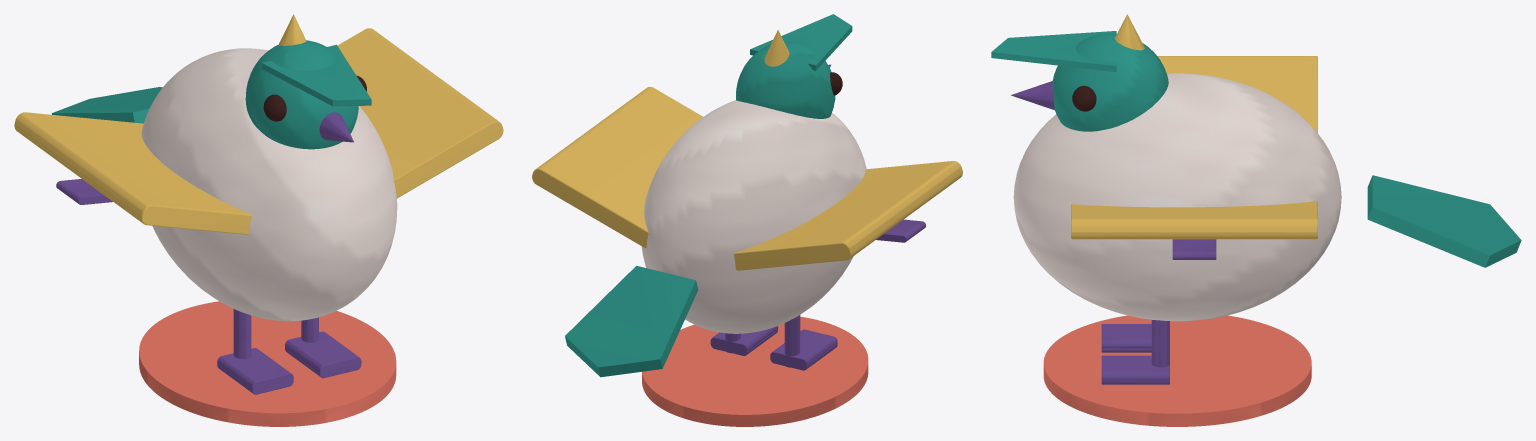
Rendered from 0150_恐龙图鉴_鹦鹉嘴龙.glb.
3 renders of one model, left to right at view 1: azimuth 30°, elevation 25°; view 2: azimuth 150°, elevation 25°; view 3: azimuth 270°, elevation 25°, orthographic. The views are drawn at different scales.
Visible parts, largest first — view 1: card_0150; view 2: card_0150; view 3: card_0150.
Part boxes in pixels (box(x1,y1,x2,y2)): card_0150: box(14, 14, 503, 426); card_0150: box(532, 14, 962, 426); card_0150: box(991, 14, 1521, 426).
Size of the model in its own units: 1.07 by 1 by 1.33.
